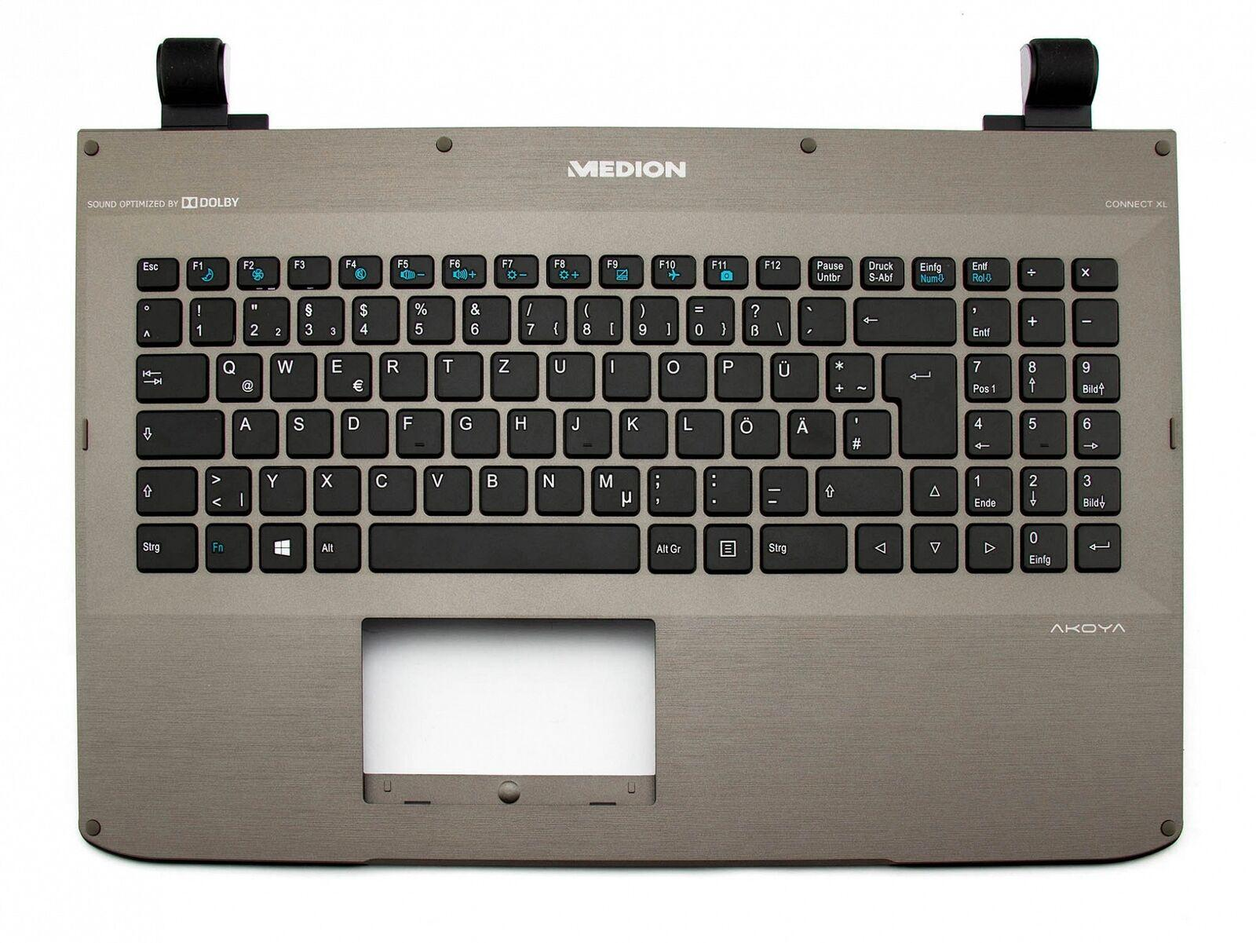0: (683, 292, 732, 342)
1: (188, 295, 234, 344)
2: (240, 294, 289, 343)
3: (294, 293, 342, 343)
4: (349, 293, 397, 342)
5: (403, 293, 452, 341)
6: (460, 292, 509, 342)
7: (517, 293, 565, 342)
8: (571, 293, 621, 342)
9: (627, 293, 677, 342)
a: (229, 406, 276, 455)
accent: (796, 294, 844, 342)
ae: (785, 405, 834, 455)
alt-left: (309, 520, 358, 570)
altgr-right: (644, 521, 695, 570)
b: (476, 462, 525, 512)
c: (365, 462, 414, 512)
caret: (133, 294, 180, 343)
comma: (644, 463, 694, 514)
d: (338, 406, 385, 455)
del: (851, 293, 955, 342)
e: (321, 349, 370, 398)
enter: (881, 348, 960, 459)
f: (393, 405, 441, 455)
g: (449, 404, 497, 455)
h: (505, 405, 553, 455)
hash: (841, 406, 889, 456)
i: (601, 349, 649, 399)
j: (560, 405, 609, 455)
k: (617, 405, 666, 455)
keyboard: (117, 243, 1140, 588)
l: (674, 405, 721, 455)
less: (202, 462, 250, 514)
m: (588, 462, 638, 513)
minus: (757, 463, 805, 513)
n: (532, 462, 581, 513)
o: (655, 348, 704, 398)
oe: (728, 406, 777, 455)
p: (711, 349, 761, 399)
plus: (823, 349, 872, 399)
point: (700, 462, 750, 513)
q: (213, 349, 261, 400)
r: (377, 349, 425, 398)
s: (283, 406, 330, 455)
shift-left: (131, 462, 195, 514)
shift-lock: (134, 406, 225, 462)
shift-right: (812, 462, 900, 513)
space: (366, 519, 638, 571)
ss: (739, 293, 789, 342)
strg-left: (130, 520, 195, 569)
strg-right: (755, 520, 847, 571)
t: (433, 349, 480, 397)
tab: (136, 353, 208, 403)
u: (544, 349, 593, 399)
ue: (767, 349, 817, 400)
v: (421, 462, 469, 512)
w: (267, 349, 314, 399)
x: (311, 462, 358, 512)
y: (257, 462, 304, 513)
z: (488, 349, 536, 398)
